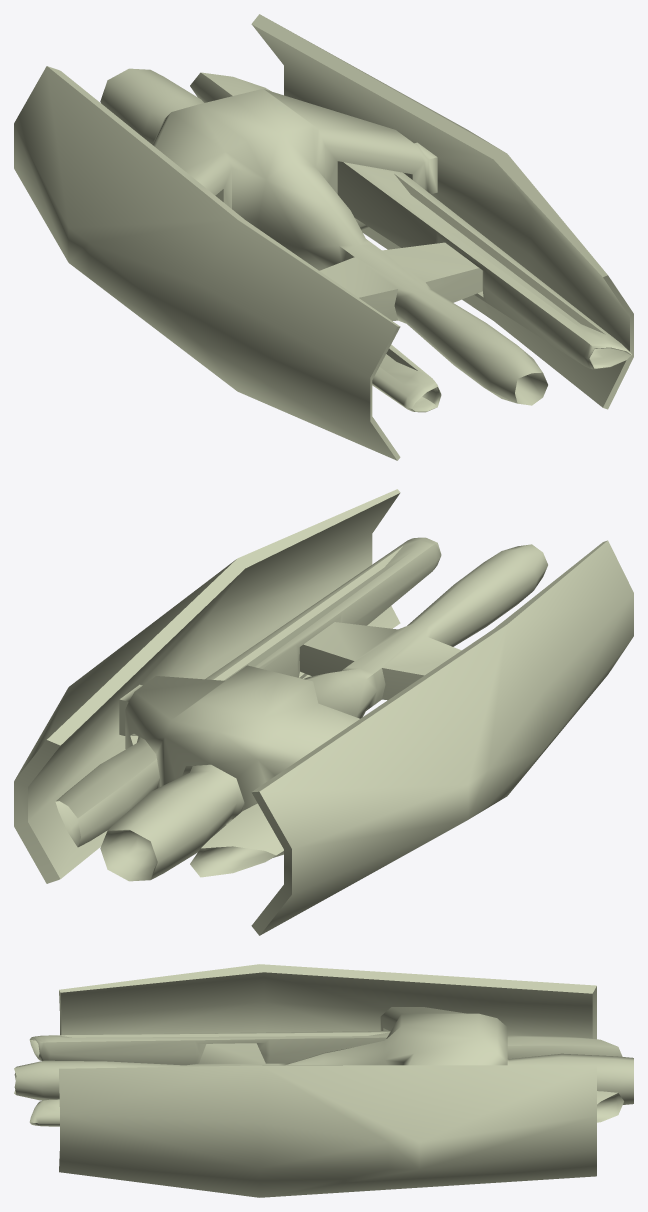
The model's file is destroyer.obj.
The picture shows the model from 3 angles, top to bottom: view 1: azimuth 30°, elevation 25°; view 2: azimuth 150°, elevation 25°; view 3: azimuth 270°, elevation 25°; orthographic projection. The views are drawn at different scales.
Visible parts, largest first — view 1: Cube1_cut3; view 2: Cube1_cut3; view 3: Cube1_cut3.
Boxes of the visible parts, box(x1,y1,x2,y2) form: Cube1_cut3: box(14, 14, 633, 460); Cube1_cut3: box(14, 489, 633, 935); Cube1_cut3: box(14, 964, 633, 1197).
Bounding box in the file's own units: 0.778 × 0.3199 × 1.36.
